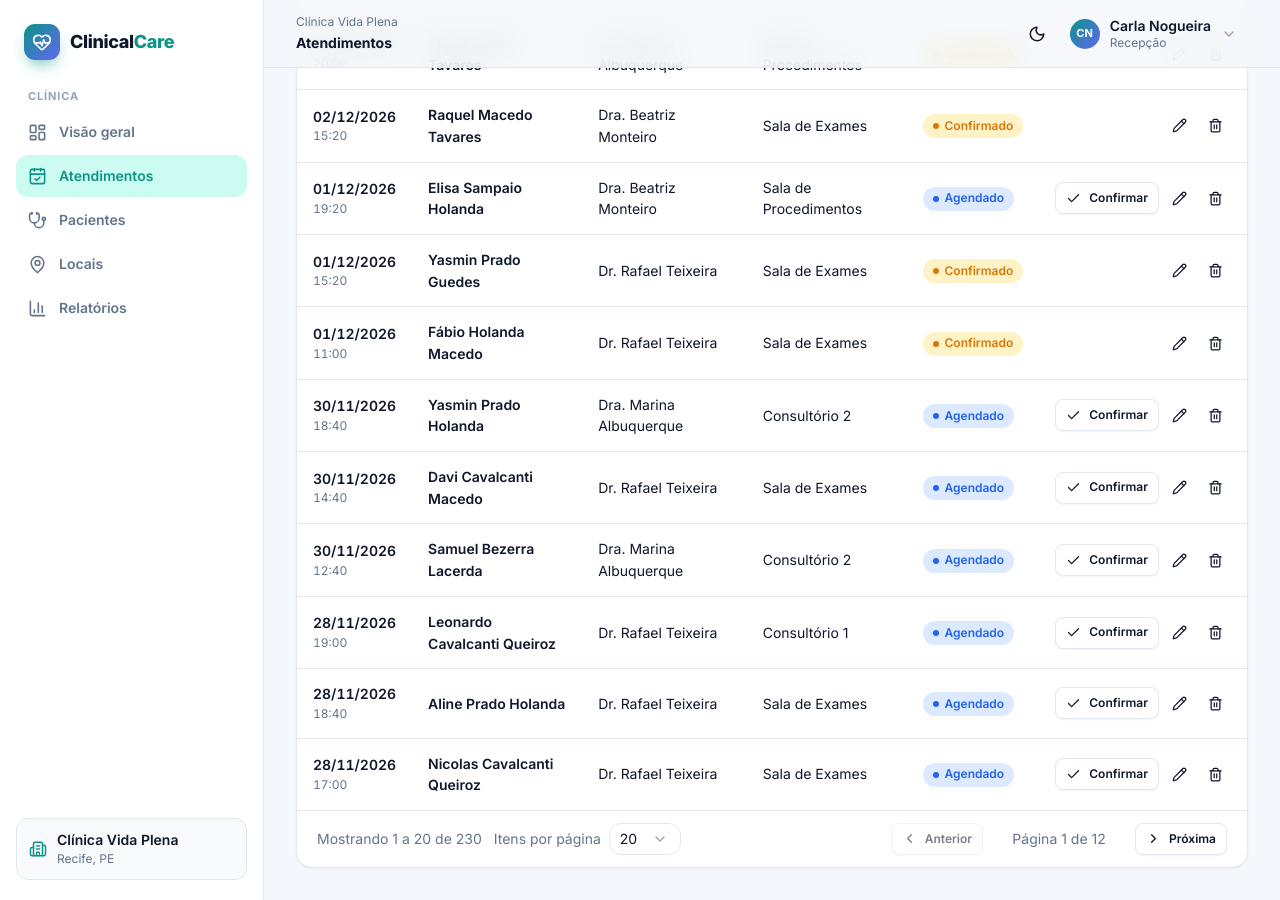
Test: atendimentos › pagina os atendimentos e a recepção não vê o botão Finalizar
The width and height of the screenshot is (1280, 900).
(page scrolled)
Expected: the text "Mostrando 1 a 20 de 230" is shown, [317,828,482,850]
Expected: the text "Página 1 de 12" is shown, [1012,830,1106,847]
What coordinates should you click on to do the following:
click the button with aria-label "Próxima página"
I would click on:
 (1181, 839)
Its box is [1135,823,1227,855].
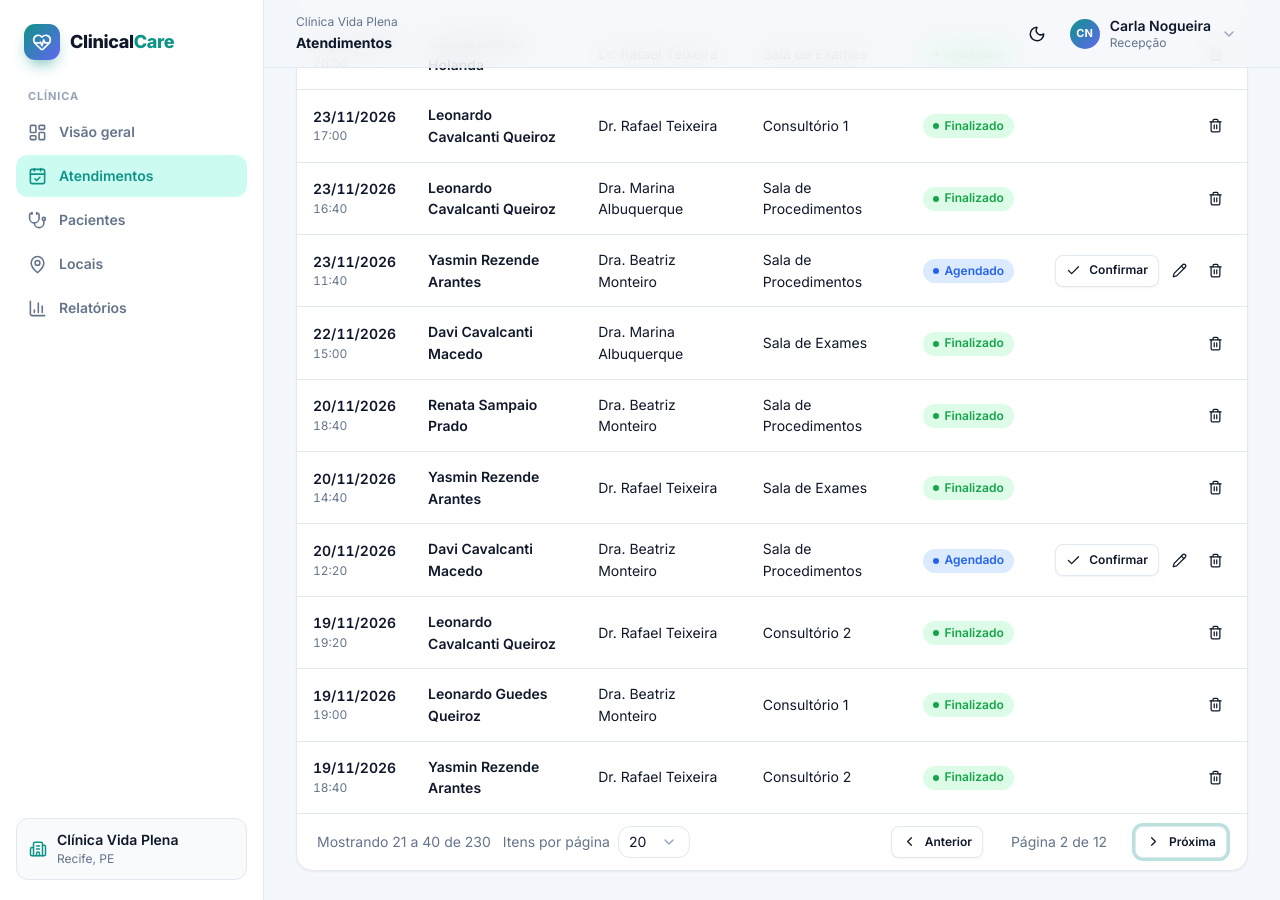
Expected: the text "Mostrando 21 a 40 de 230" is shown, [317,831,491,853]
Expected: the text "Página 2 de 12" is shown, [1011,833,1107,850]
